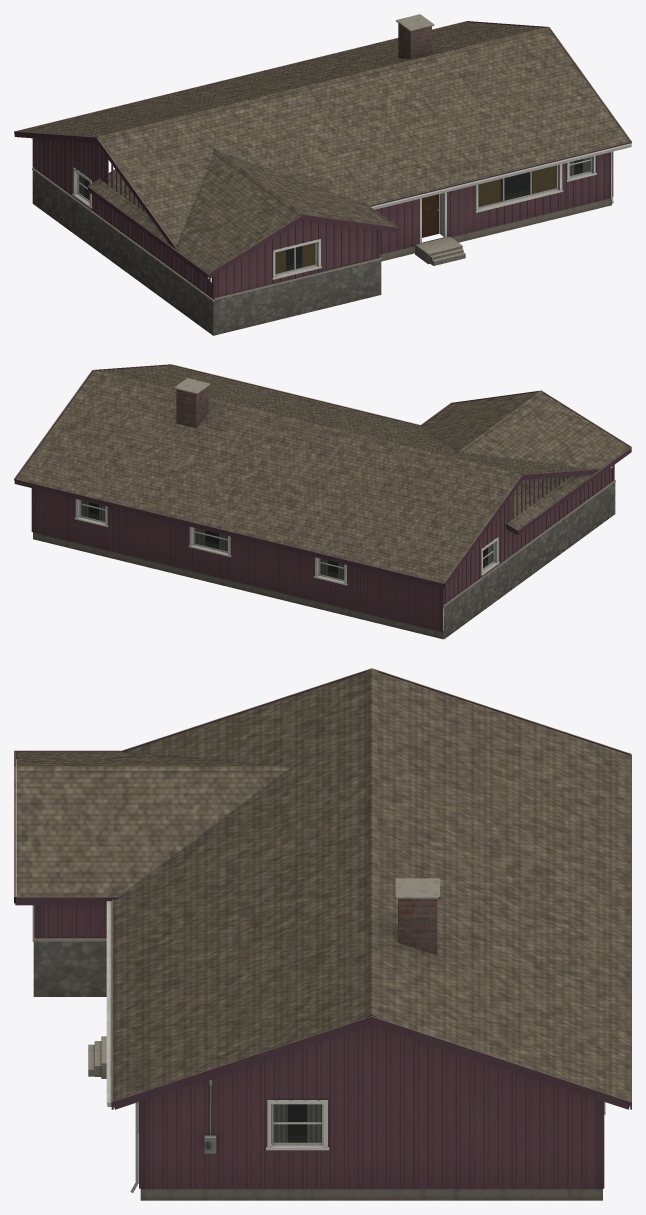
Rendered from ranch_plum.glb.
The picture shows the model from 3 angles, top to bottom: view 1: azimuth 30°, elevation 25°; view 2: azimuth 150°, elevation 25°; view 3: azimuth 270°, elevation 25°; orthographic projection. The views are drawn at different scales.
Visible parts, largest first — view 1: ranch_plum; view 2: ranch_plum; view 3: ranch_plum.
Part boxes in pixels (bbox=[...]): ranch_plum: bbox=[14, 14, 631, 335]; ranch_plum: bbox=[14, 364, 631, 639]; ranch_plum: bbox=[14, 668, 631, 1200].
Bounding box in the file's own units: 18.98 × 5.87 × 14.16.
2 materials, 2 textured.
